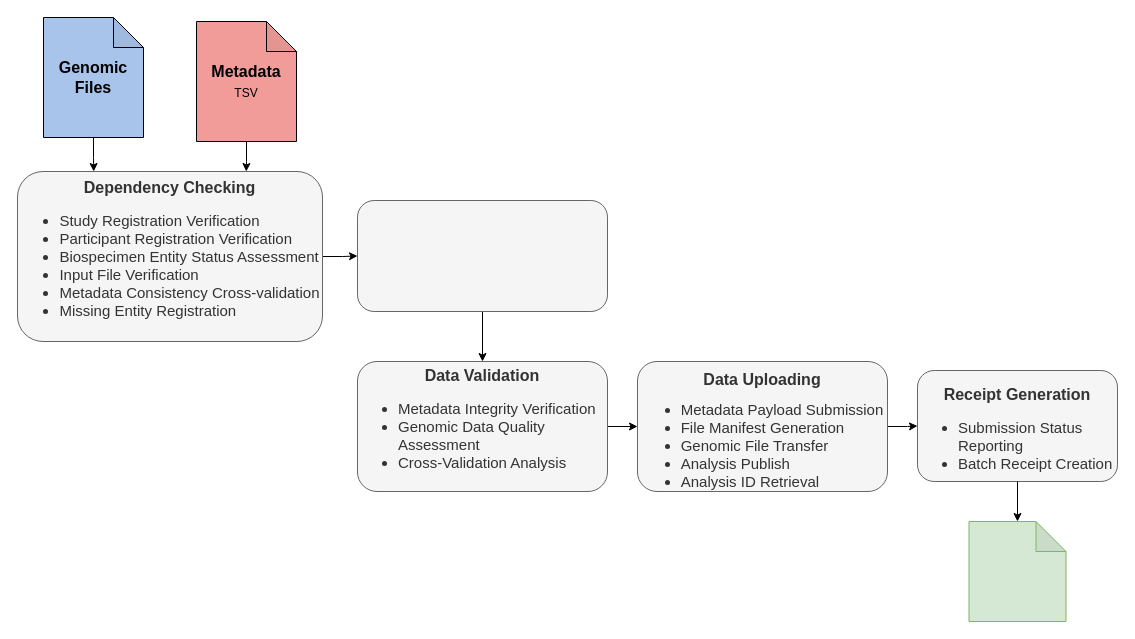
Some shapes in this 1135 by 639 pixel diagram are drawn without their labels. Each missing label, with the centre of its shape:
"Batch Submission Receipt" belongs at [1017,571].
"Metadata Payload Generation TSV to JSON Transformation Schema Validation" belongs at [482,256].
